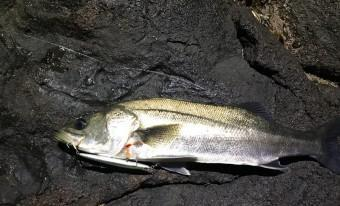fish: (55, 98, 339, 175)
